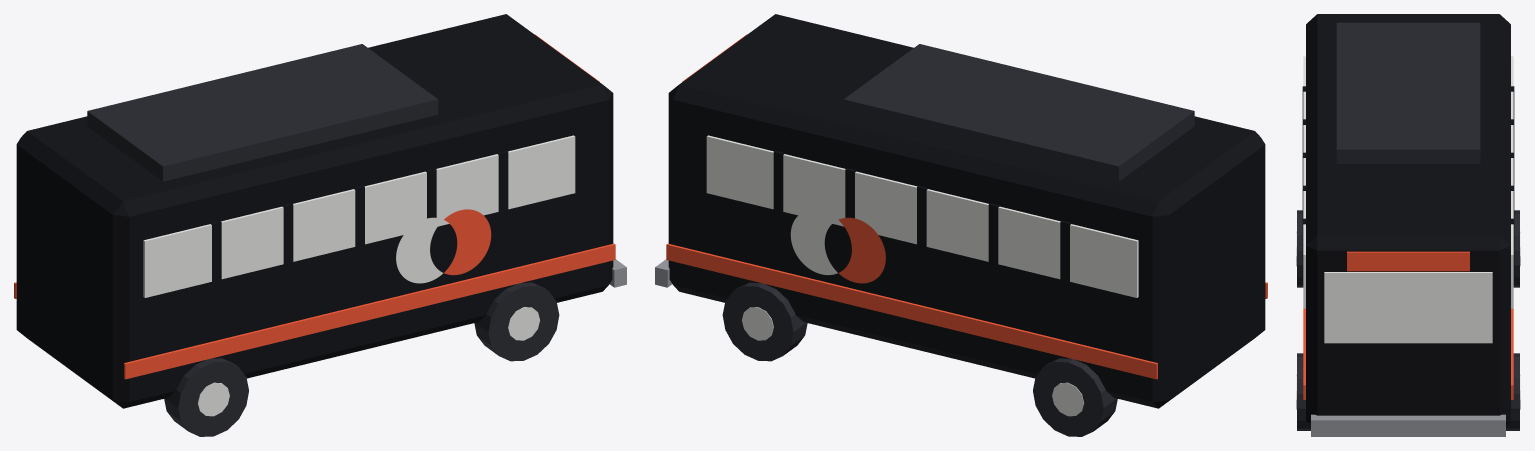
Rendered from tour-bus.glb.
The picture shows the model from 3 angles, left to right: view 1: azimuth 30°, elevation 25°; view 2: azimuth 150°, elevation 25°; view 3: azimuth 270°, elevation 25°; orthographic projection. The views are drawn at different scales.
Parts seen in each view (by area): view 1: Bus, Wheel_0_L, Wheel_1_L; view 2: Bus, Wheel_0_R, Wheel_1_R; view 3: Bus, Wheel_1_L, Wheel_1_R, Wheel_0_L, Wheel_0_R.
Part boxes in pixels (<box>): Bus: <box>14,14,626,408</box>; Wheel_0_L: <box>164,358,248,436</box>; Wheel_1_L: <box>474,282,559,361</box>; Bus: <box>655,14,1267,408</box>; Wheel_0_R: <box>1033,358,1117,436</box>; Wheel_1_R: <box>722,282,807,361</box>; Bus: <box>1302,14,1514,436</box>; Wheel_1_L: <box>1296,353,1310,430</box>; Wheel_1_R: <box>1506,353,1520,430</box>; Wheel_0_L: <box>1296,210,1303,287</box>; Wheel_0_R: <box>1513,210,1520,287</box>.
Bounding box in the file's own units: 2.45 × 1.2 × 0.985.
6 materials, 1 textured.
